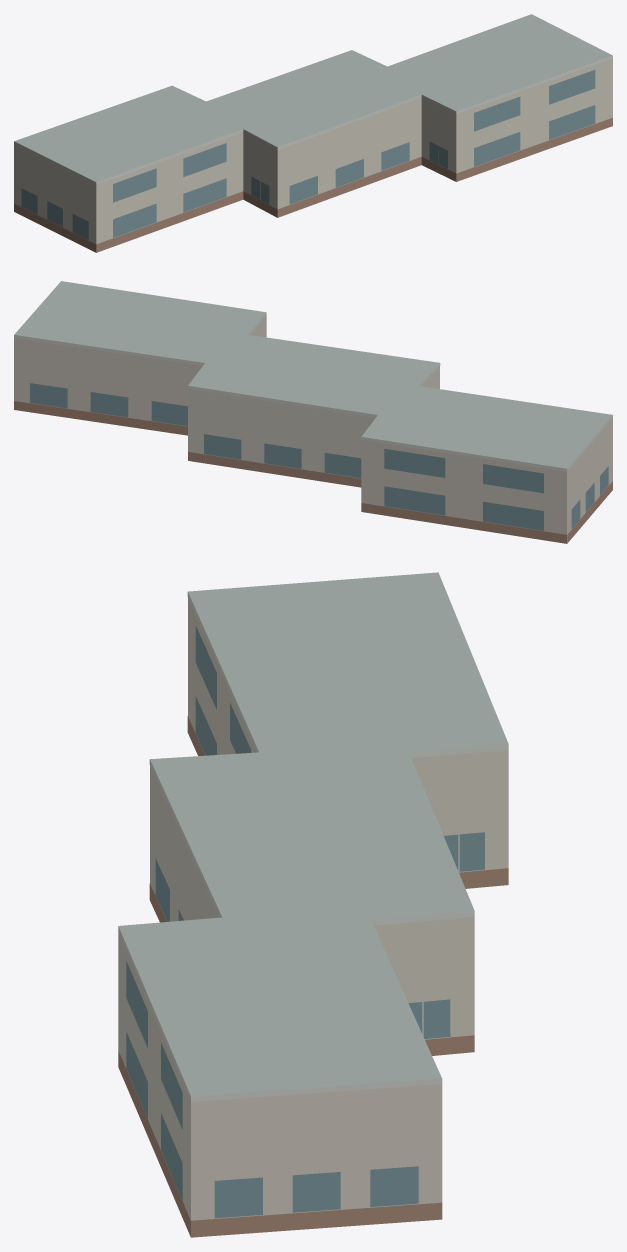
File: survey-upis-32616077.glb
3 views of the same model, one above another, from view 1: azimuth 30°, elevation 25°; view 2: azimuth 150°, elevation 25°; view 3: azimuth 270°, elevation 25° (orthographic). The views are drawn at different scales.
Visible parts, largest first — view 1: survey-upis-32616077.tmp; view 2: survey-upis-32616077.tmp; view 3: survey-upis-32616077.tmp.
Boxes of the visible parts, x1=… form: survey-upis-32616077.tmp: x1=14, y1=14, x2=612, y2=252; survey-upis-32616077.tmp: x1=14, y1=281, x2=612, y2=543; survey-upis-32616077.tmp: x1=118, y1=572, x2=508, y2=1237.
Bounding box in the file's own units: 48.6 × 6.1 × 15.3.
